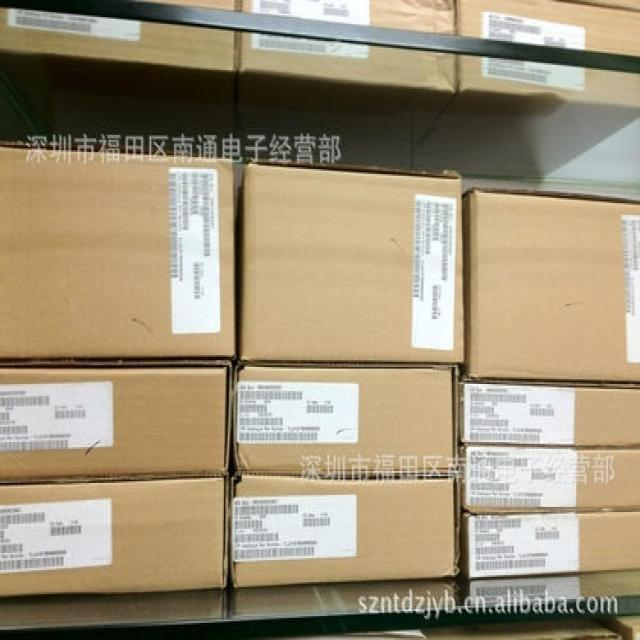box: (0, 147, 236, 358), (234, 160, 466, 364), (463, 188, 640, 382), (0, 9, 236, 150), (239, 32, 458, 169), (402, 53, 640, 176), (0, 474, 229, 597), (0, 362, 232, 483), (229, 471, 461, 589), (232, 362, 460, 476), (458, 375, 640, 447), (457, 444, 640, 515), (457, 510, 640, 579), (457, 0, 640, 56), (241, 0, 457, 34), (595, 614, 640, 640)
